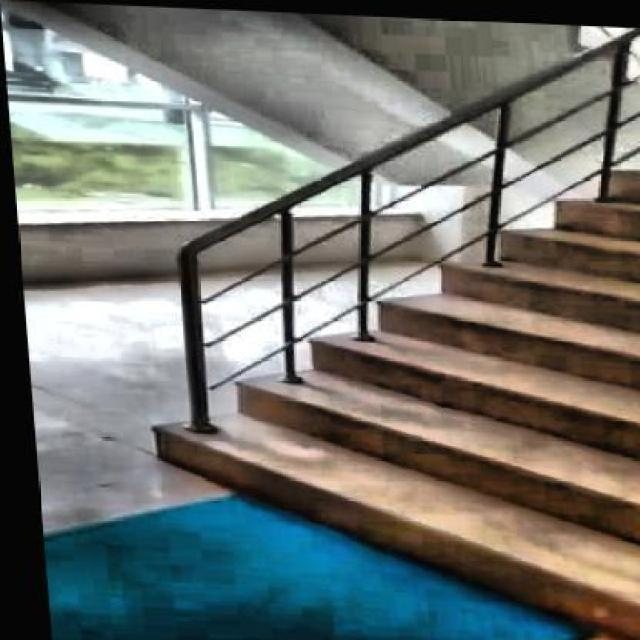stair: (110, 111, 638, 638)
